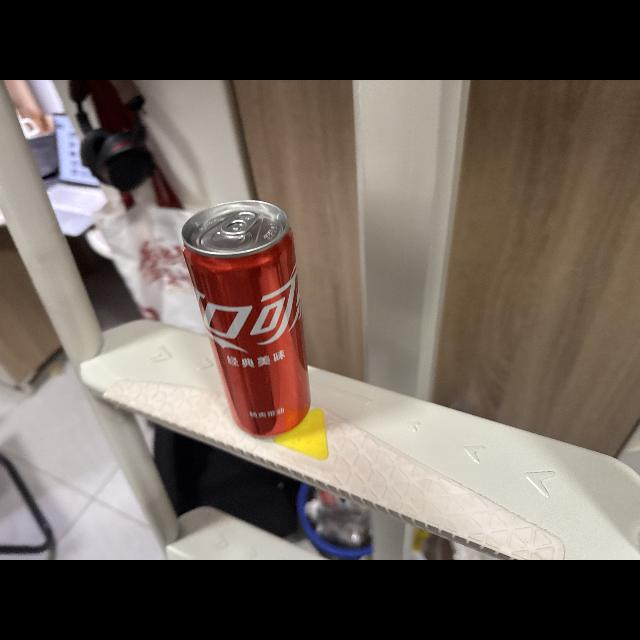Cola: (176, 192, 318, 444)
